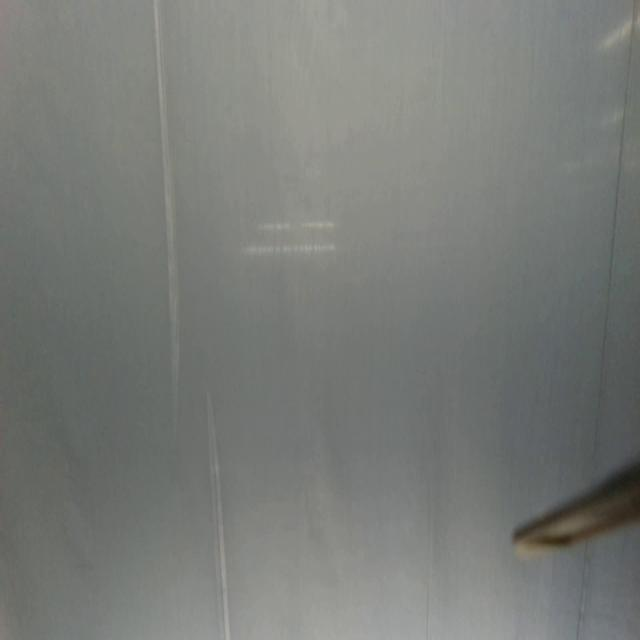crease: (594, 0, 637, 446), (152, 0, 183, 430), (206, 393, 231, 640), (574, 538, 592, 640), (424, 506, 434, 640)
